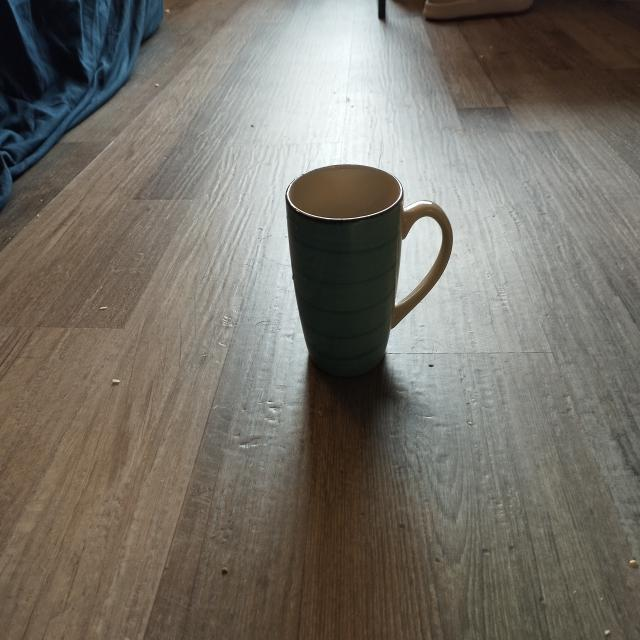Cup: (253, 146, 480, 410)
